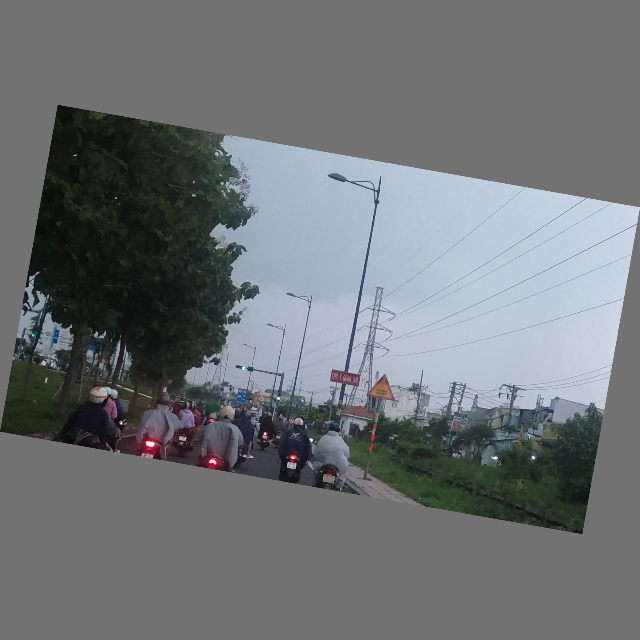W.210: (365, 372, 400, 403)
